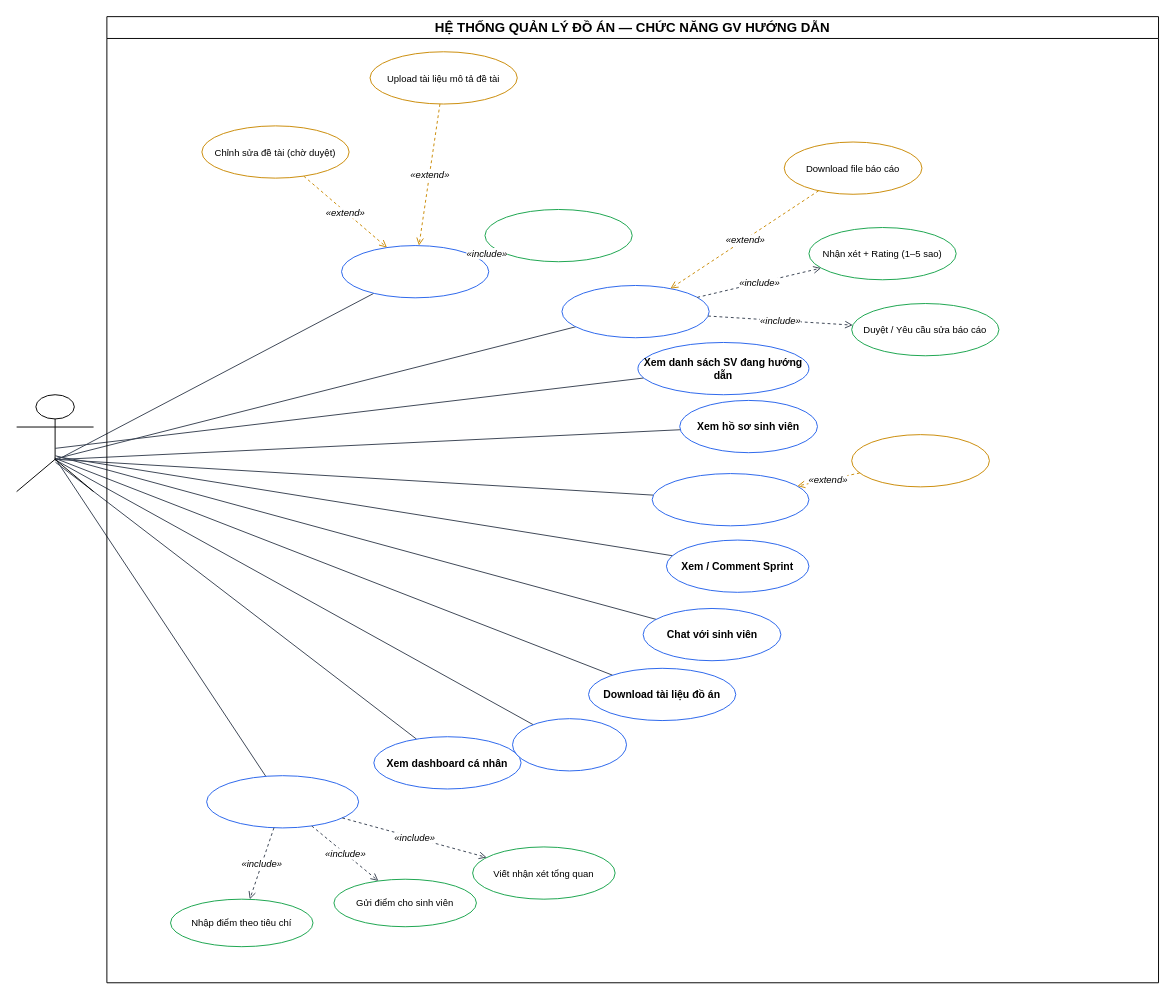
The diagram is 1175 pixels wide and 999 high, and some of its shapes have lost their labels. Here are the shapes that lost their labels. From the top down, the centre of each, then its label:
point (558, 235): Xem trạng thái phê duyệt
point (415, 271): Đề xuất đề tài mới
point (635, 311): Xem báo cáo tiến độ
point (55, 443): Actor
point (920, 460): Từ chối đơn đăng ký
point (730, 499): Duyệt đơn đăng ký của sinh viên
point (569, 744): Chat AI trợ lý
point (282, 801): Chấm điểm hướng dẫn
